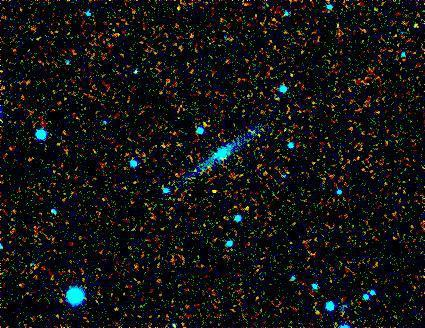star: (200, 178, 230, 208)
